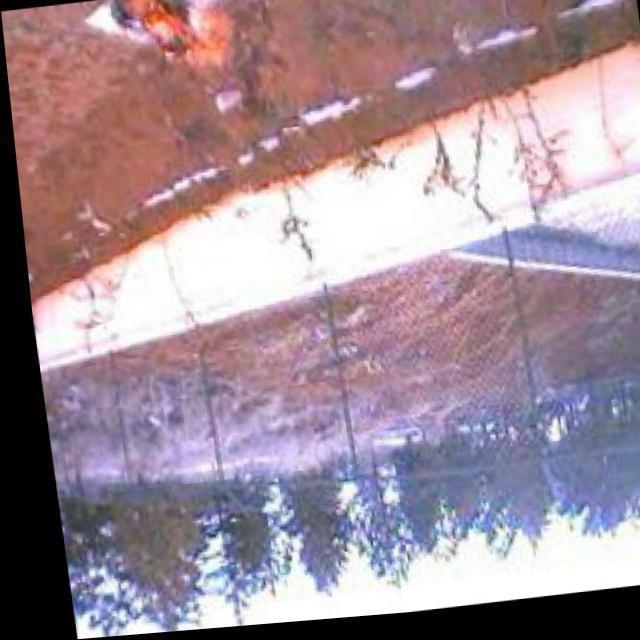fire: (106, 0, 258, 86)
